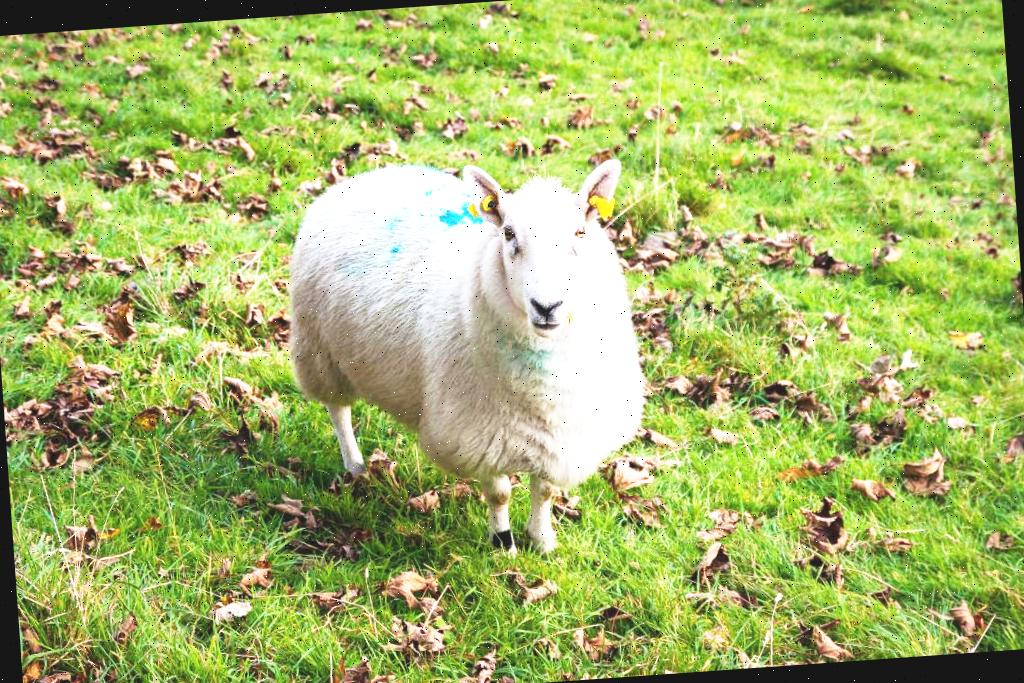Sheep: (276, 148, 656, 572)
